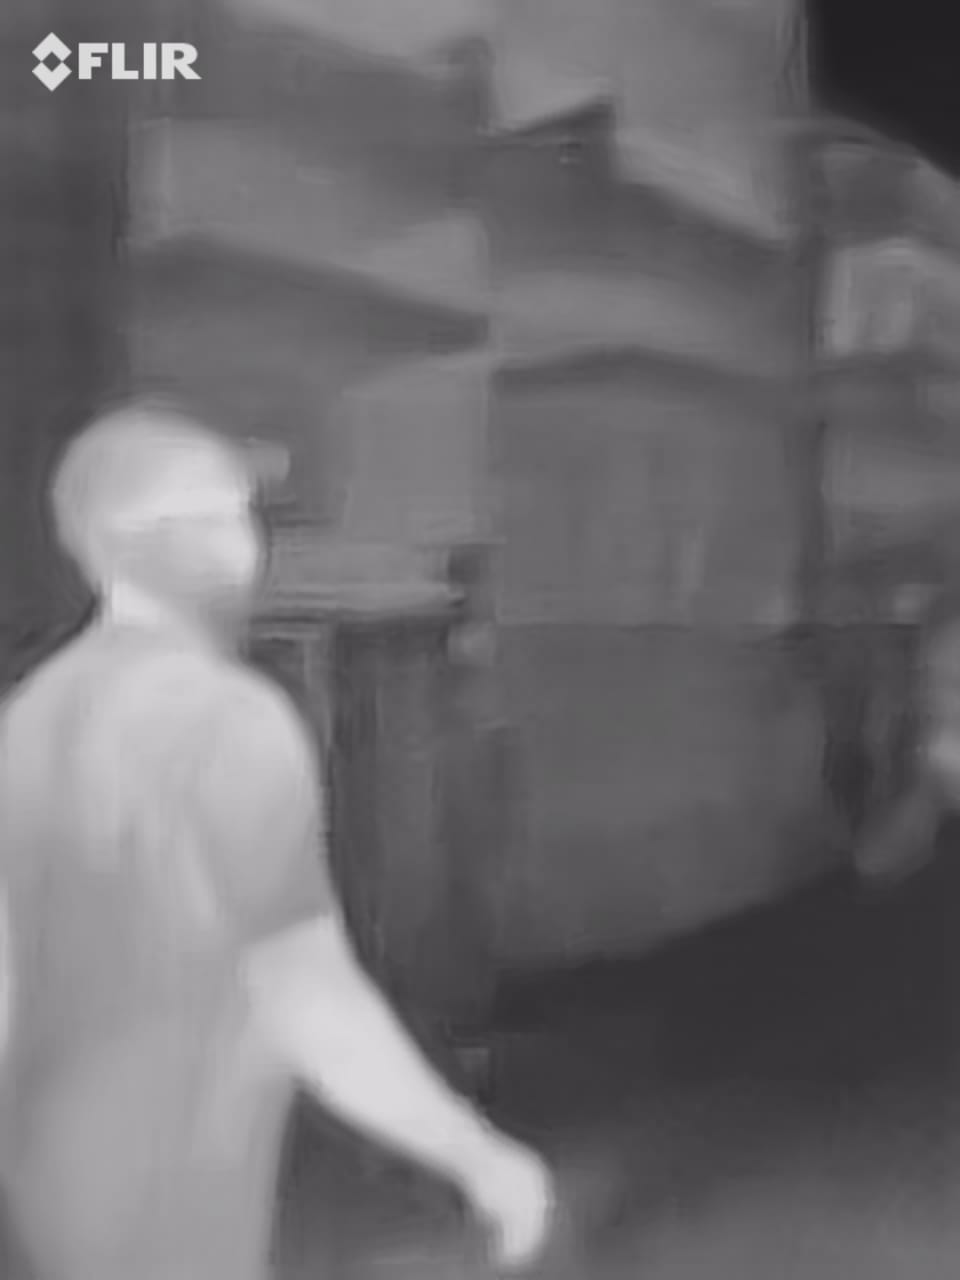head: (36, 391, 278, 661)
